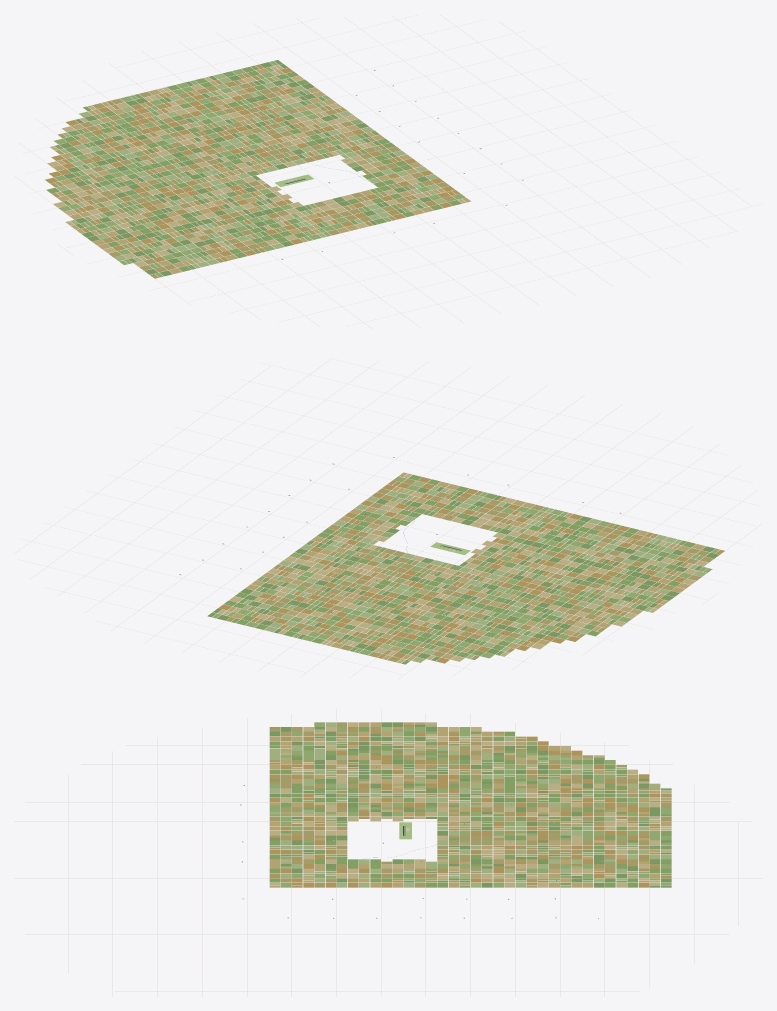
Rendered from land.glb.
The picture shows the model from 3 angles, top to bottom: view 1: azimuth 30°, elevation 25°; view 2: azimuth 150°, elevation 25°; view 3: azimuth 270°, elevation 25°; orthographic projection. The views are drawn at different scales.
Visible parts, largest first — view 1: decal-fields, decal-roads; view 2: decal-fields, decal-roads; view 3: decal-fields, decal-roads.
Boxes of the visible parts, bbox=[...] form: decal-fields: bbox=[45, 60, 470, 278]; decal-roads: bbox=[15, 14, 762, 328]; decal-fields: bbox=[207, 472, 724, 664]; decal-roads: bbox=[14, 358, 762, 679]; decal-fields: bbox=[269, 722, 671, 887]; decal-roads: bbox=[14, 709, 762, 996].
Bounding box in the file's own units: 80740 × 70 × 88440.
